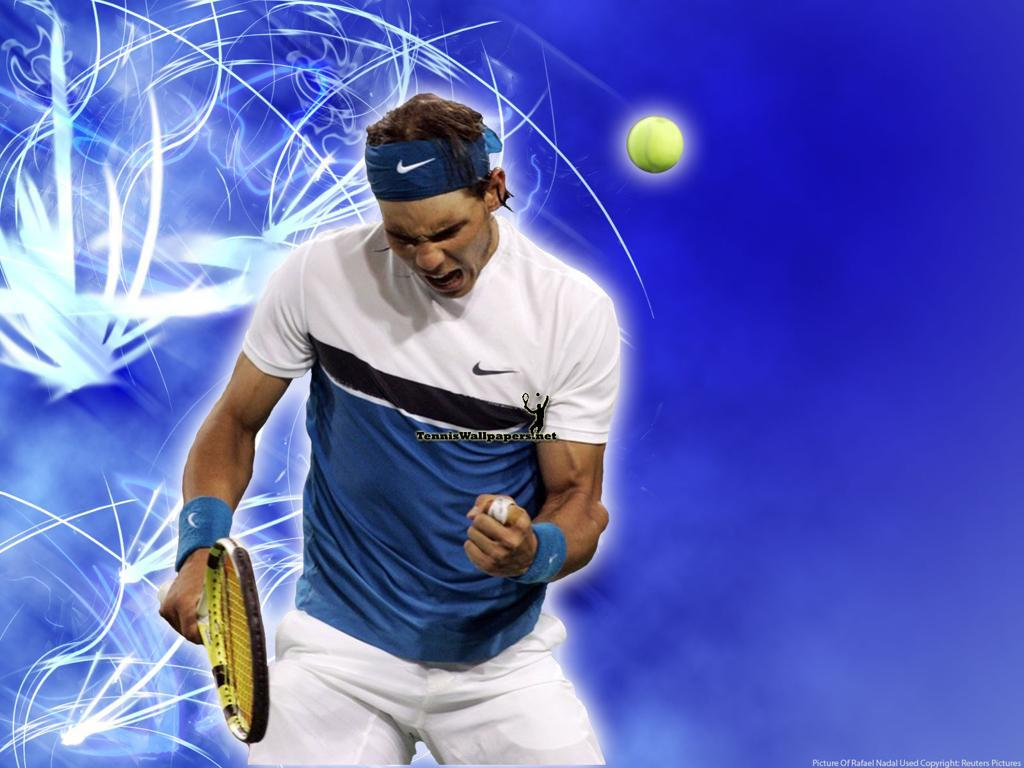face: (383, 191, 487, 295)
